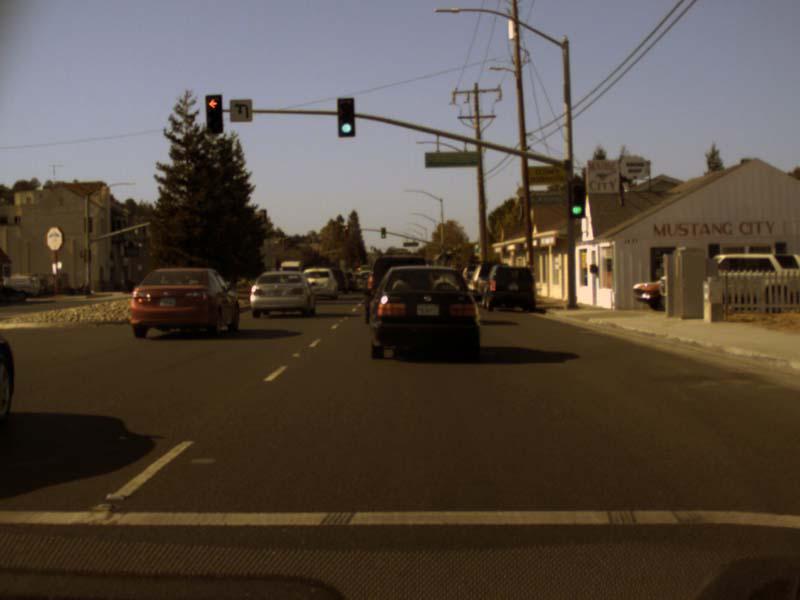Green: (337, 98, 354, 135), (569, 178, 584, 217), (380, 226, 386, 237)
Red: (204, 94, 223, 132), (343, 224, 348, 236)
